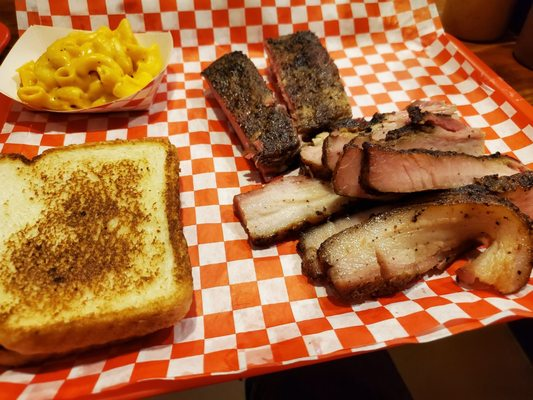soup: (0, 139, 194, 360)
sushi: (15, 23, 173, 117)
